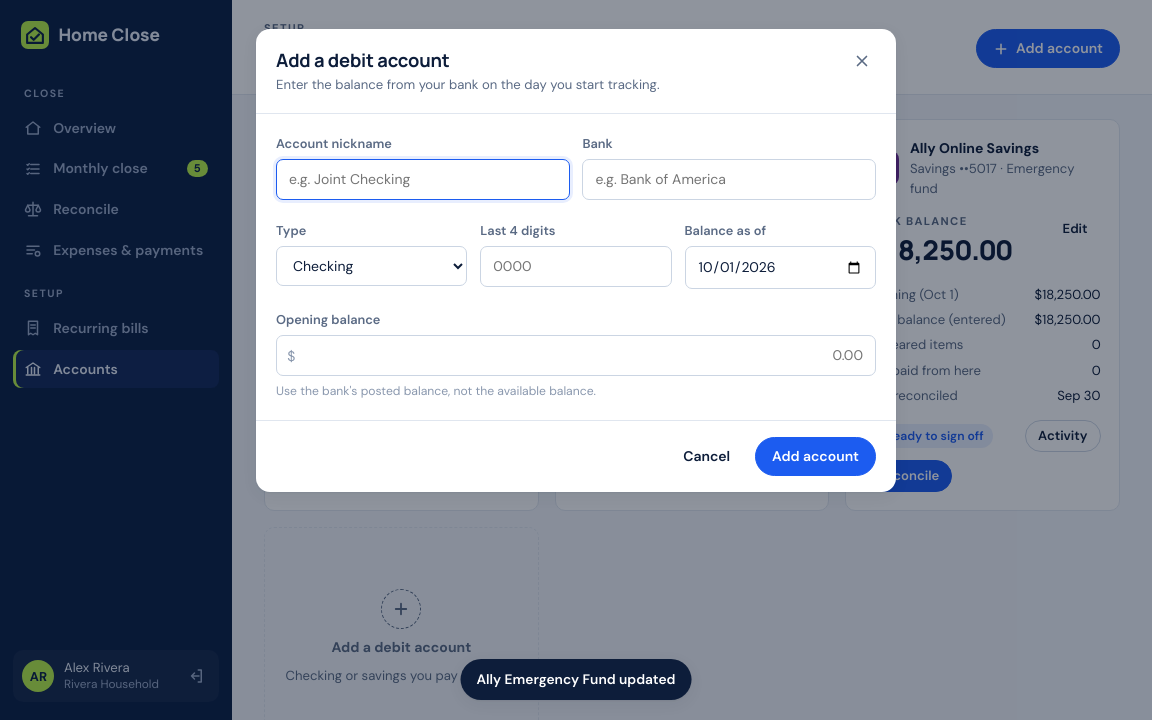
accounts › validates the last 4 digits
In the field labelled "Account nickname": (423, 179) x1=276 y1=159 x2=570 y2=200, type "X"
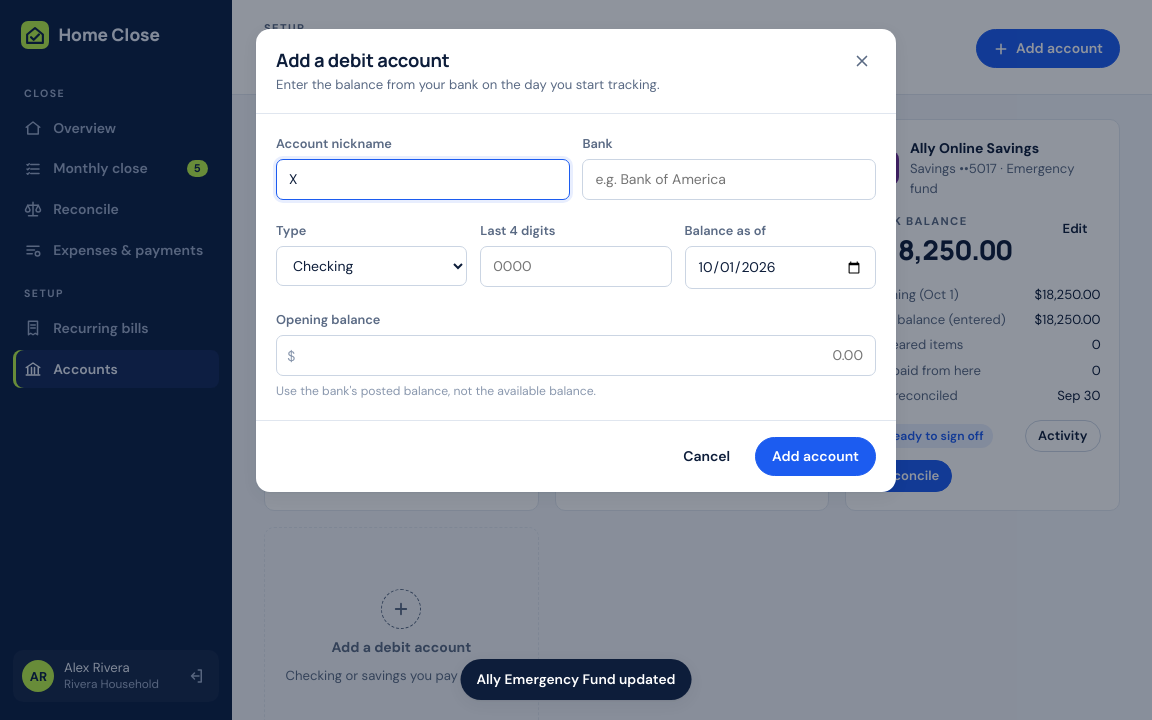
In the field labelled "Bank": (729, 179) x1=582 y1=159 x2=876 y2=200, type "Y"
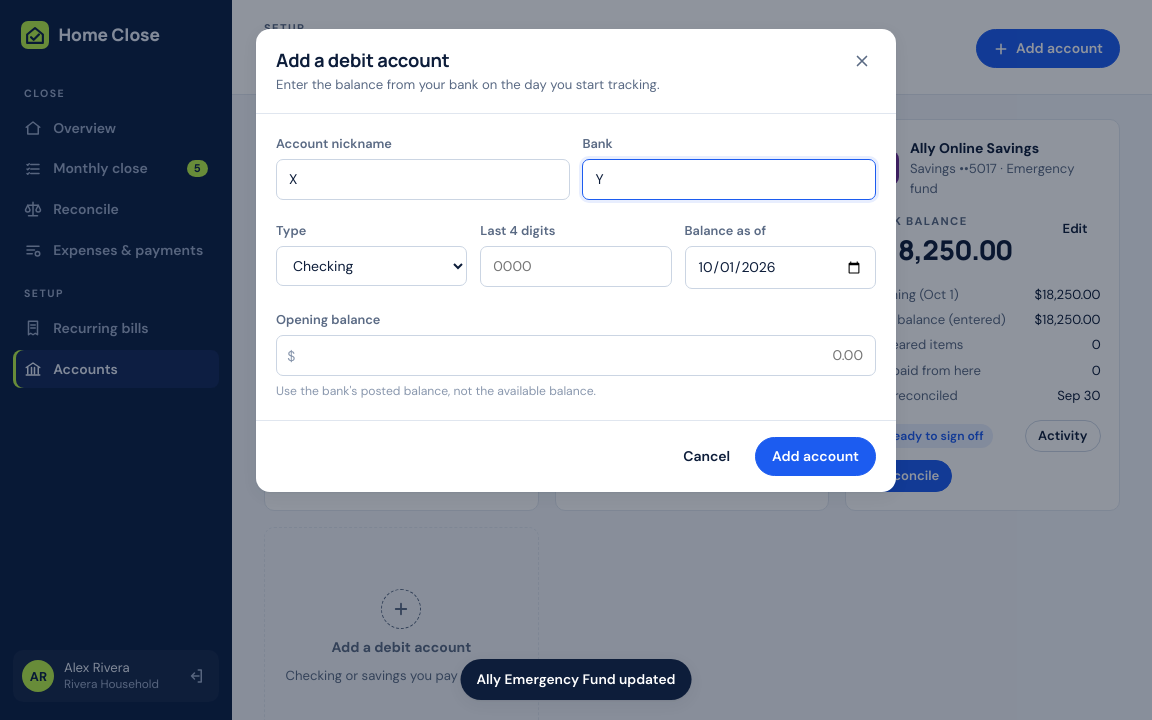
In the field labelled "Last 4 digits": (576, 267) x1=480 y1=246 x2=672 y2=287, type "12"
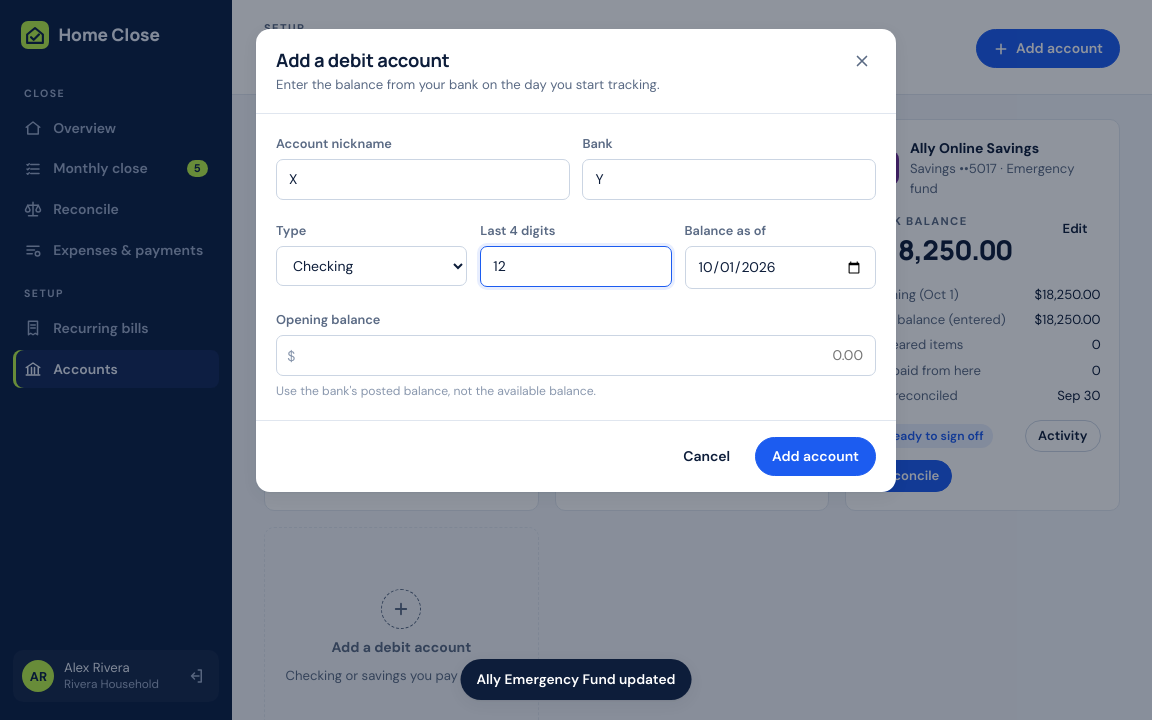
In the field labelled "Opening balance": (576, 356) x1=276 y1=335 x2=876 y2=376, type "0"
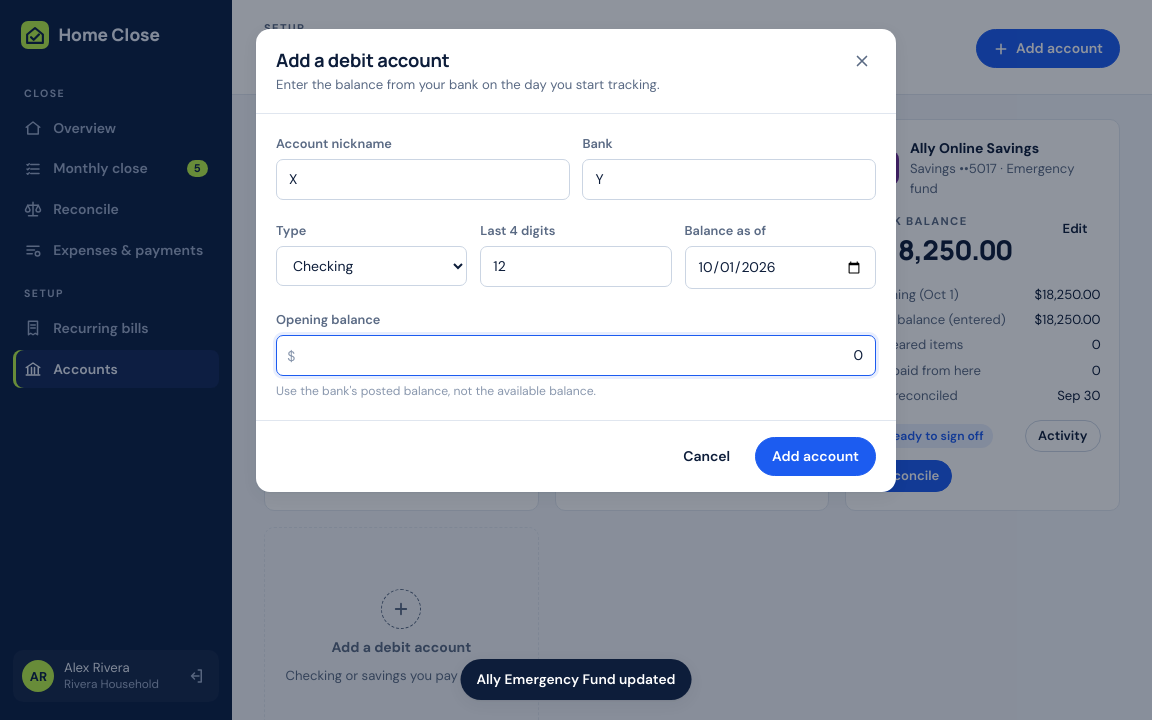
Click the button "Add account": click(816, 457) x1=755 y1=437 x2=876 y2=476
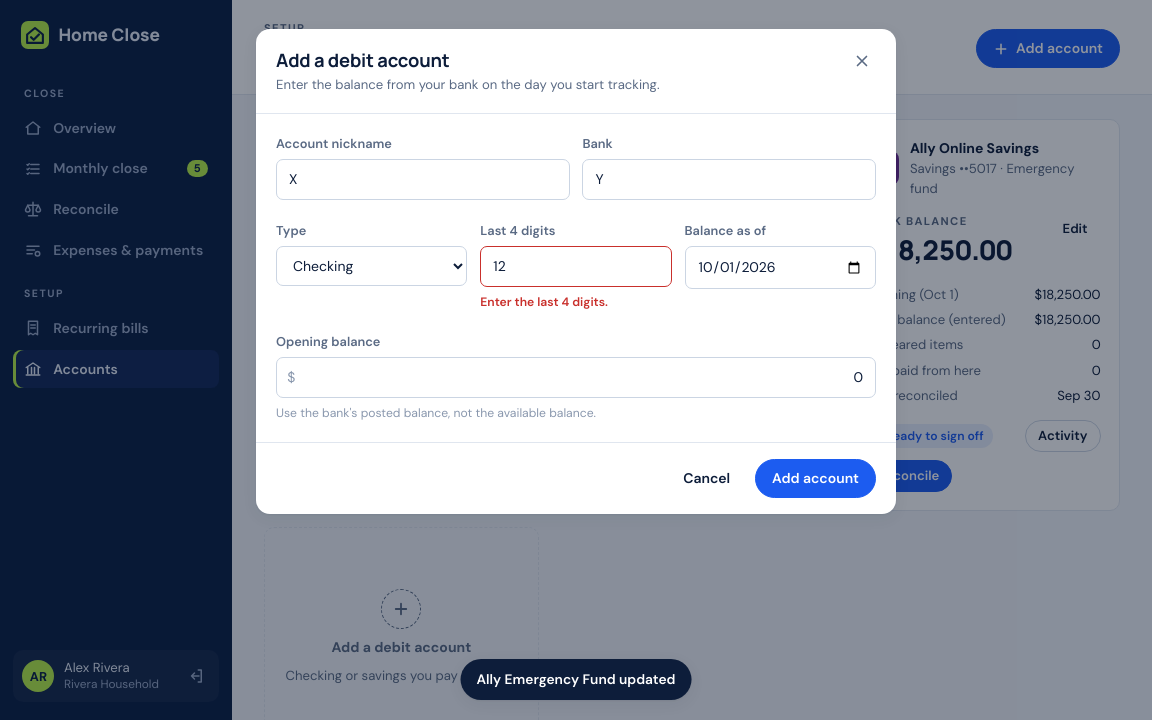
Now the text "Enter the last 4 digits." is shown, box x1=480 y1=294 x2=608 y2=310
